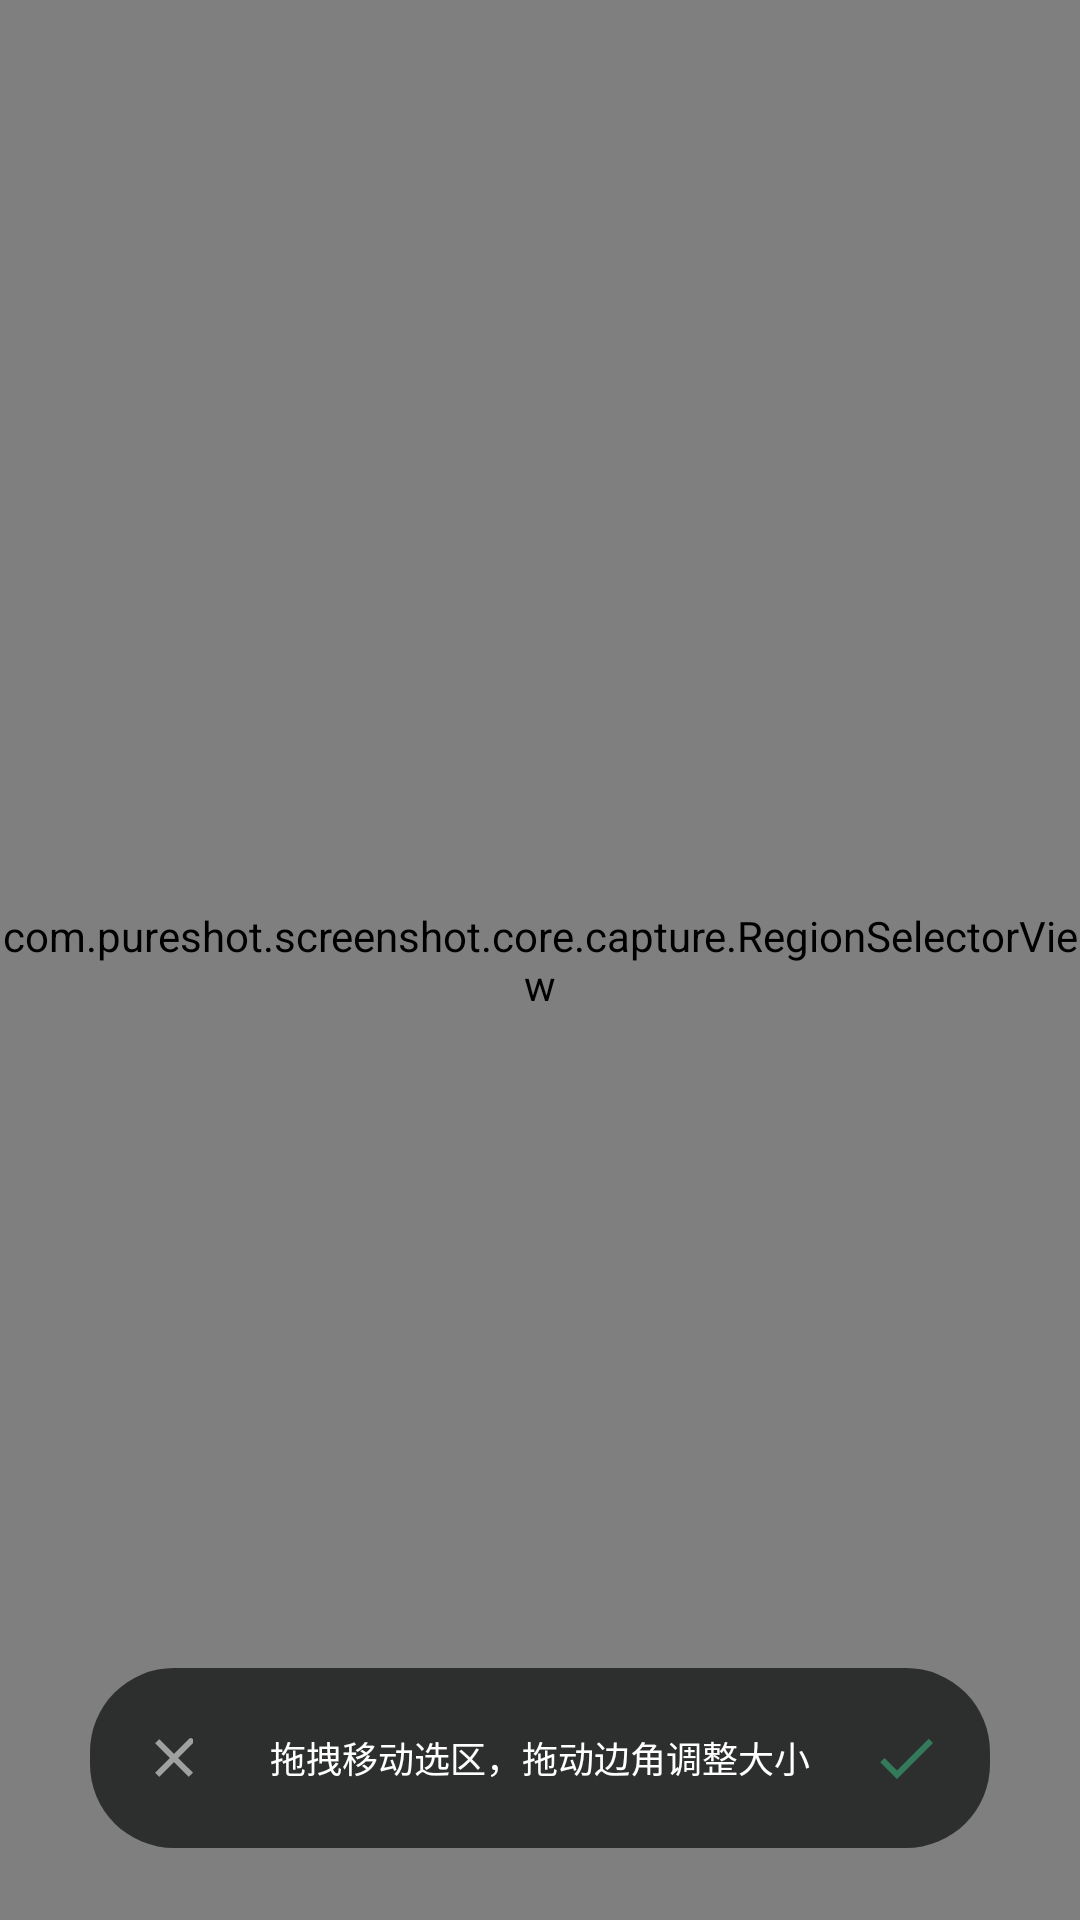

Named icons in this screenshot (1080×1920) and their bounding boxes, (x1, y1, x2, y2):
取消: (155, 1738, 193, 1777)
确定: (880, 1739, 933, 1779)
